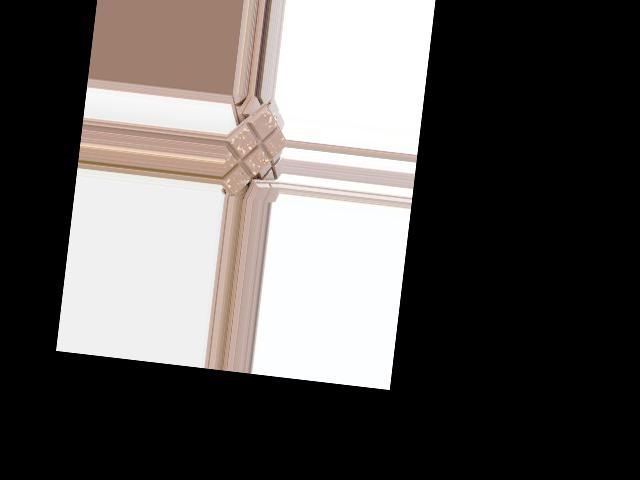chocolate: (220, 105, 288, 200)
